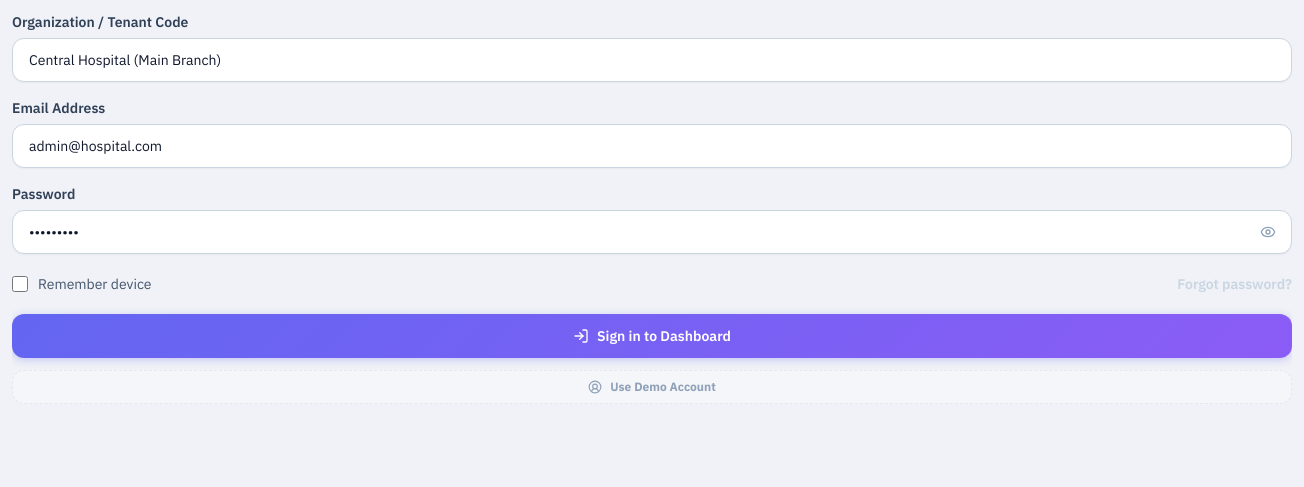
Test: LoginForm › Validation › shows validation errors for empty fields on submit
Clear the field with placeholder "e.g. Central Hospital" below "Organization / Tenant Code" at x=652, y=60, box [12,38,1292,82]
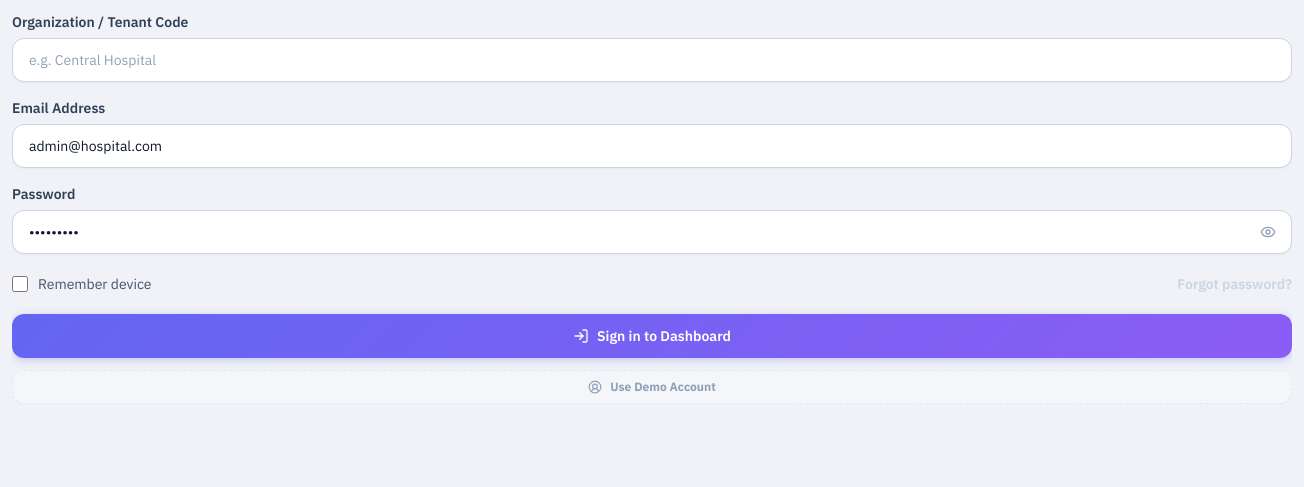
Clear the field with placeholder "name@hospital.com" at x=652, y=146, box [12,124,1292,168]
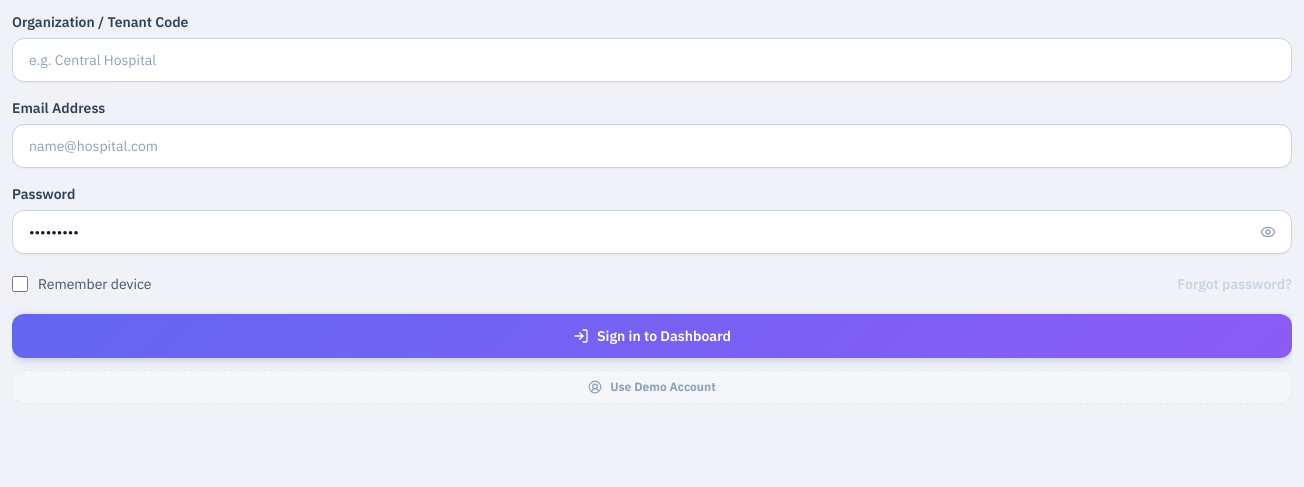
Clear the password field with placeholder "••••••••" at x=652, y=232, box [12,210,1292,254]
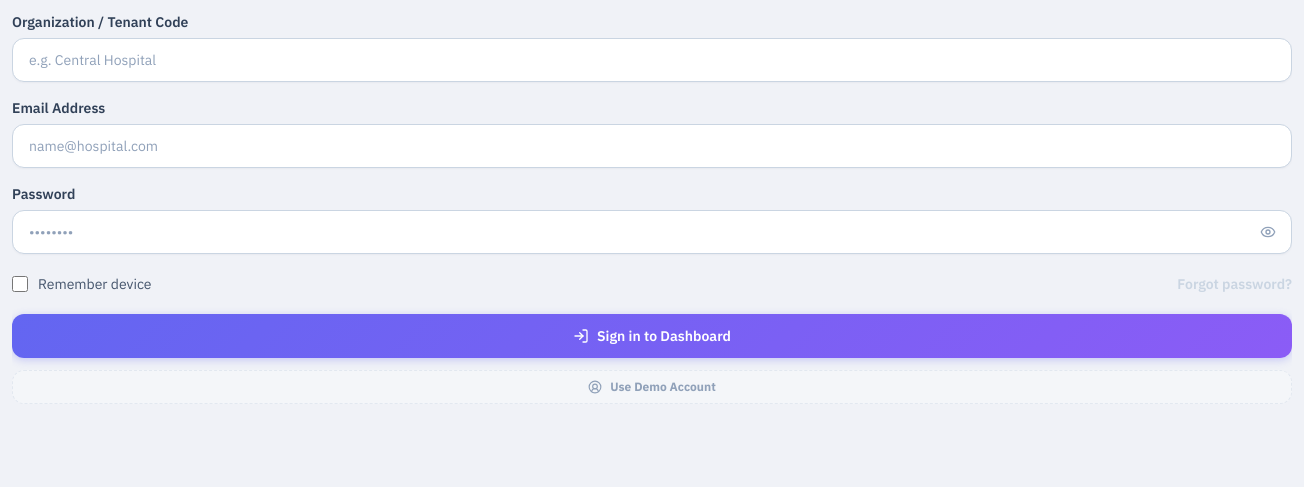
Click the button "Sign in to Dashboard" at x=652, y=336, box [12,314,1292,358]
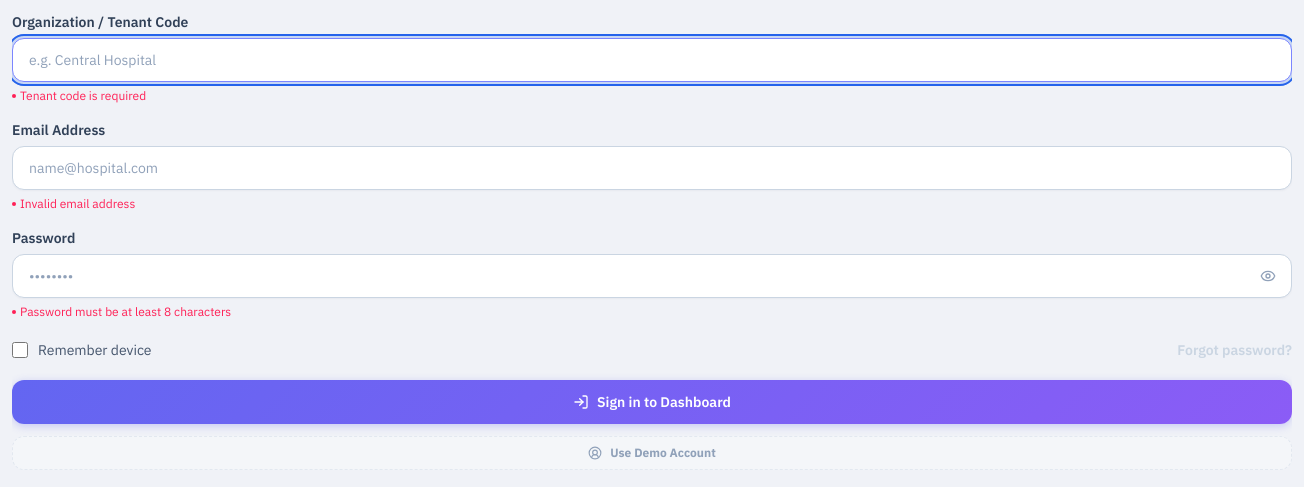
Expected: the text "Tenant code is required" is shown, [12,88,146,103]
Expected: the text "Invalid email address" is shown, [12,196,135,211]
Expected: the text "Password must be at least 8 characters" is shown, [12,304,231,319]
